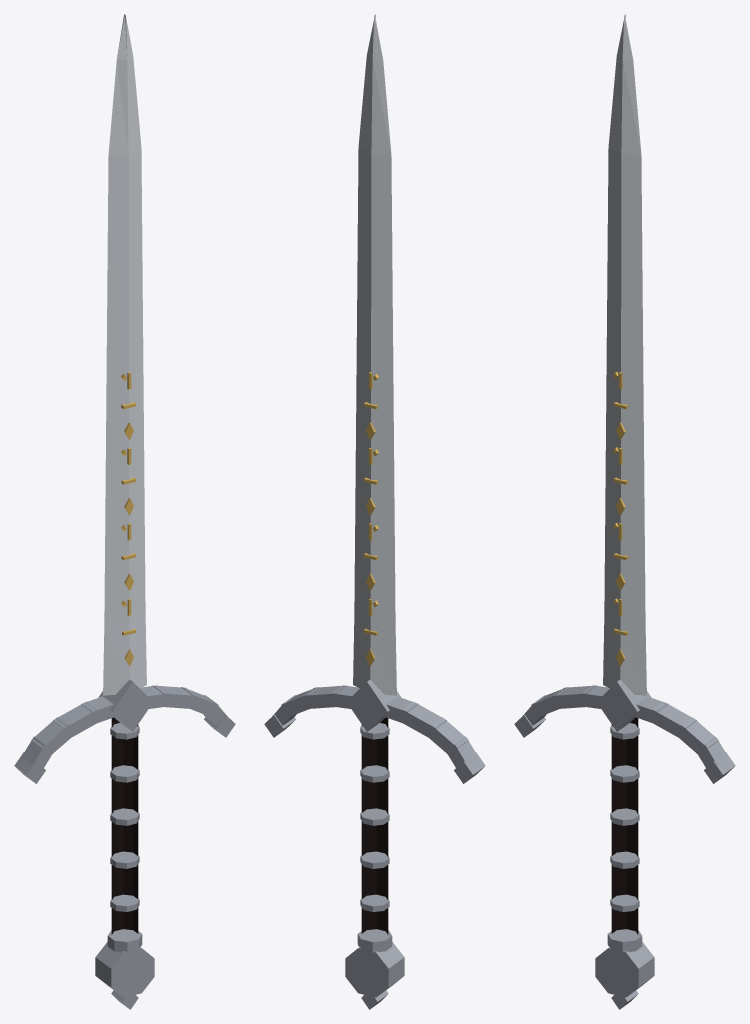
File: Anduril.obj
The picture shows the model from 3 angles, left to right: view 1: azimuth 30°, elevation 25°; view 2: azimuth 150°, elevation 25°; view 3: azimuth 330°, elevation 25°; orthographic projection.
Parts seen in each view (by area): view 1: Anduril; view 2: Anduril; view 3: Anduril.
Part boxes in pixels (x1=…): Anduril: x1=14, y1=14, x2=235, y2=1009; Anduril: x1=264, y1=14, x2=485, y2=1009; Anduril: x1=514, y1=14, x2=735, y2=1009.
Size of the model in its own units: 0.304 by 1.38 by 0.0406.
